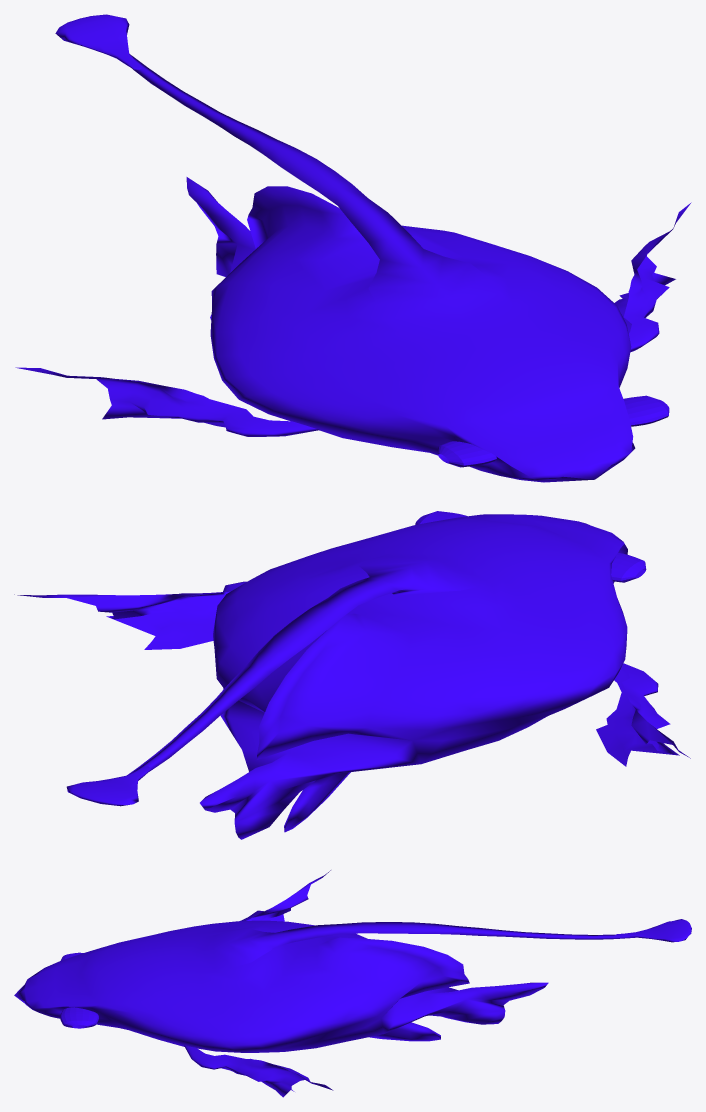
Rendered from Big Fish Done.fbx.
3 renders of one model, top to bottom at view 1: azimuth 30°, elevation 25°; view 2: azimuth 150°, elevation 25°; view 3: azimuth 270°, elevation 25°, orthographic. The views are drawn at different scales.
Visible parts, largest first — view 1: Body_low; view 2: Body_low; view 3: Body_low.
Part boxes in pixels (x1=…): Body_low: x1=15, y1=14, x2=691, y2=482; Body_low: x1=14, y1=511, x2=690, y2=839; Body_low: x1=14, y1=870, x2=691, y2=1097.
Size of the model in its own units: 73.1 by 18.39 by 94.14.
